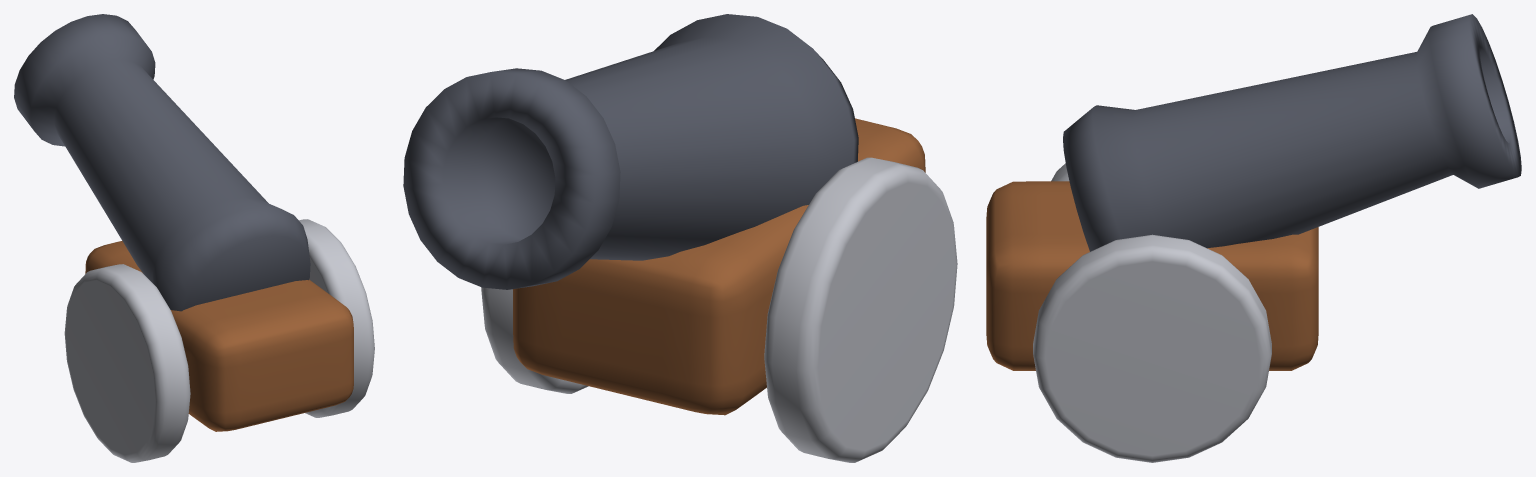
File: DiceDashCannon.obj
The picture shows the model from 3 angles, left to right: view 1: azimuth 30°, elevation 25°; view 2: azimuth 150°, elevation 25°; view 3: azimuth 270°, elevation 25°; orthographic projection. The views are drawn at different scales.
Parts seen in each view (by area): view 1: Barrel, Wheels, Carriage; view 2: Barrel, Wheels, Carriage; view 3: Barrel, Wheels, Carriage.
Part boxes in pixels (x1,y1,x2,y2): Barrel: [14, 14, 310, 311]; Wheels: [64, 219, 374, 462]; Carriage: [85, 241, 353, 431]; Barrel: [403, 14, 858, 289]; Wheels: [481, 157, 957, 462]; Carriage: [513, 118, 925, 415]; Barrel: [1063, 14, 1521, 251]; Wheels: [1033, 163, 1271, 462]; Carriage: [986, 181, 1318, 370].
Bounding box in the file's own units: 2.9 × 4.05 × 5.15.
